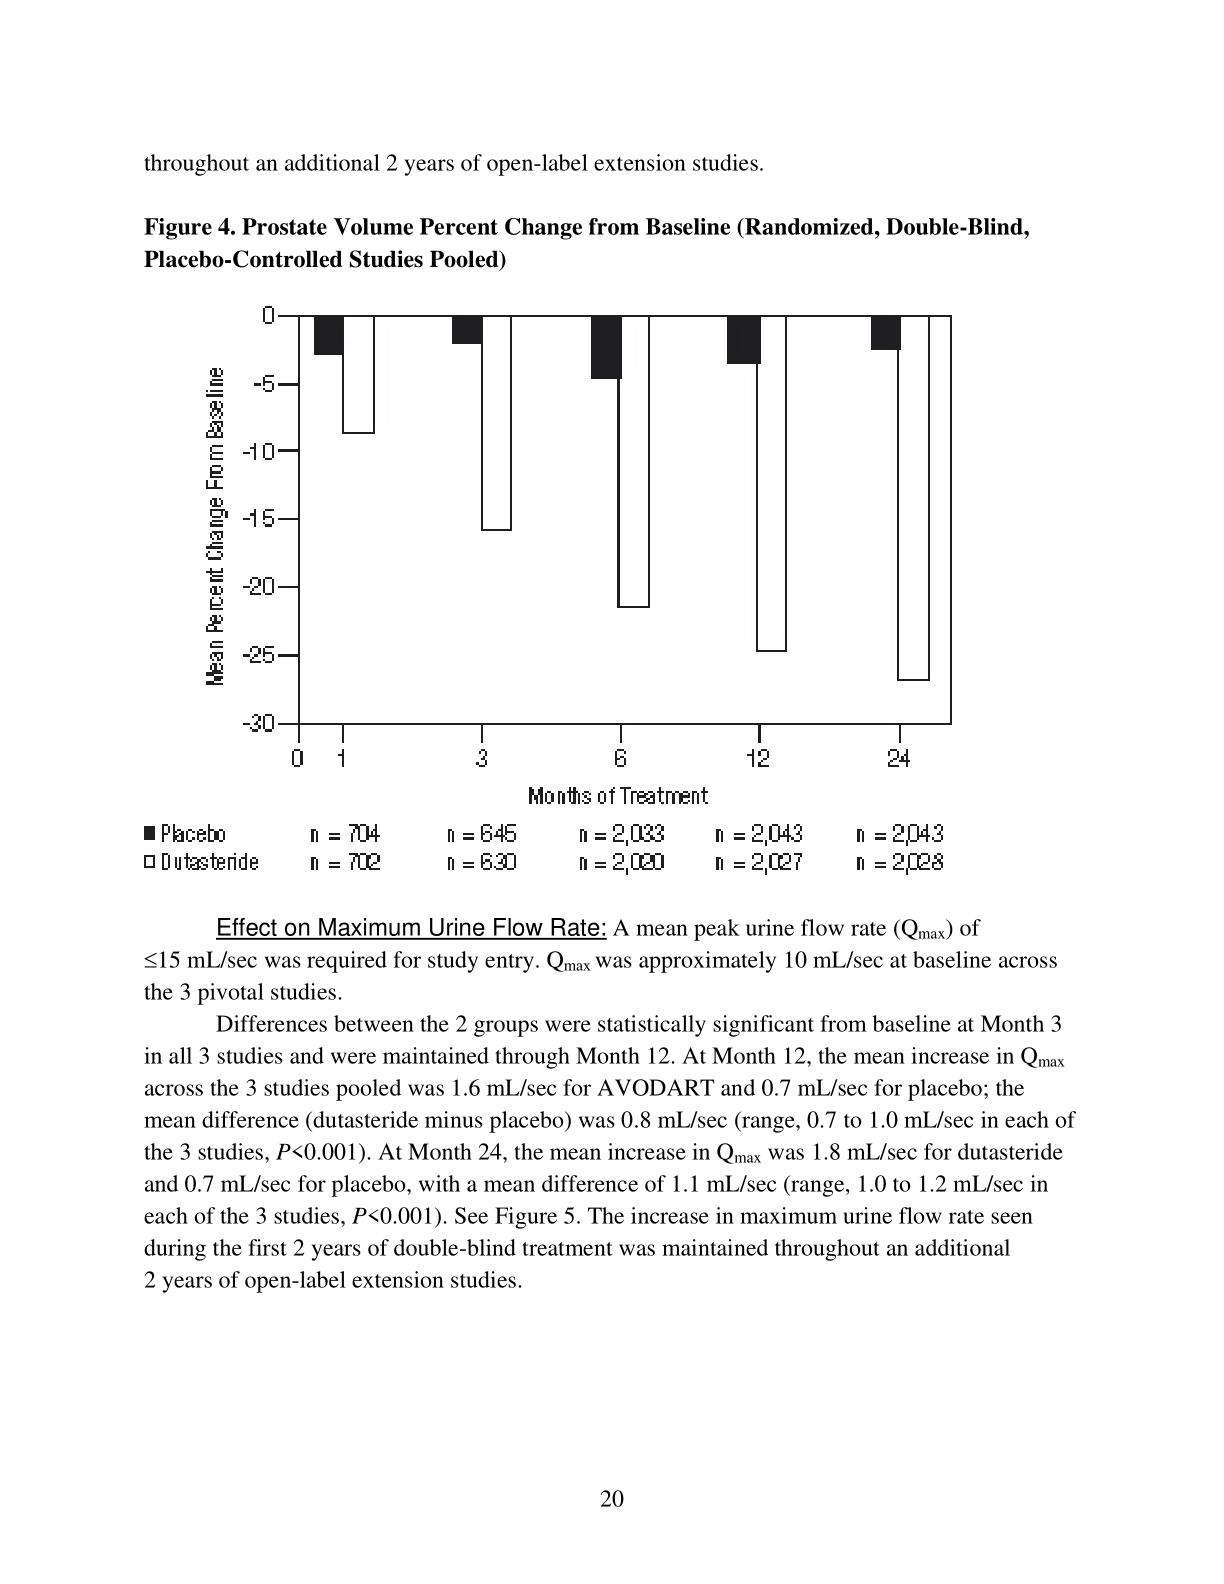nolines: (139, 822, 948, 877)
